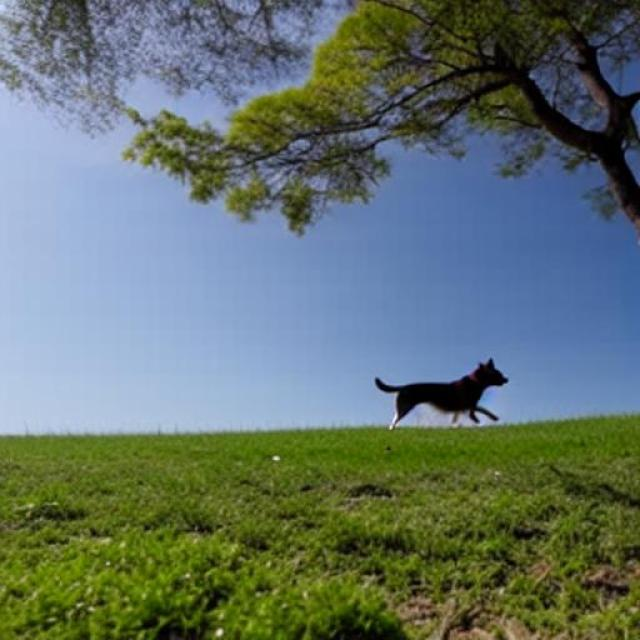Dog: (374, 357, 511, 430)
